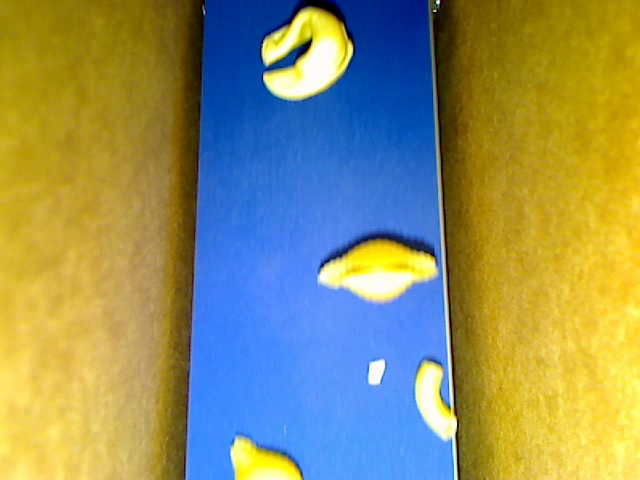elbow: (413, 357, 457, 441)
shell: (316, 238, 436, 306), (228, 434, 302, 479)
tortellini: (261, 9, 353, 101)
